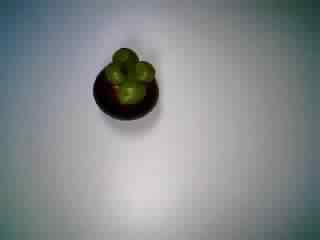mangosteen: (87, 48, 165, 123)
